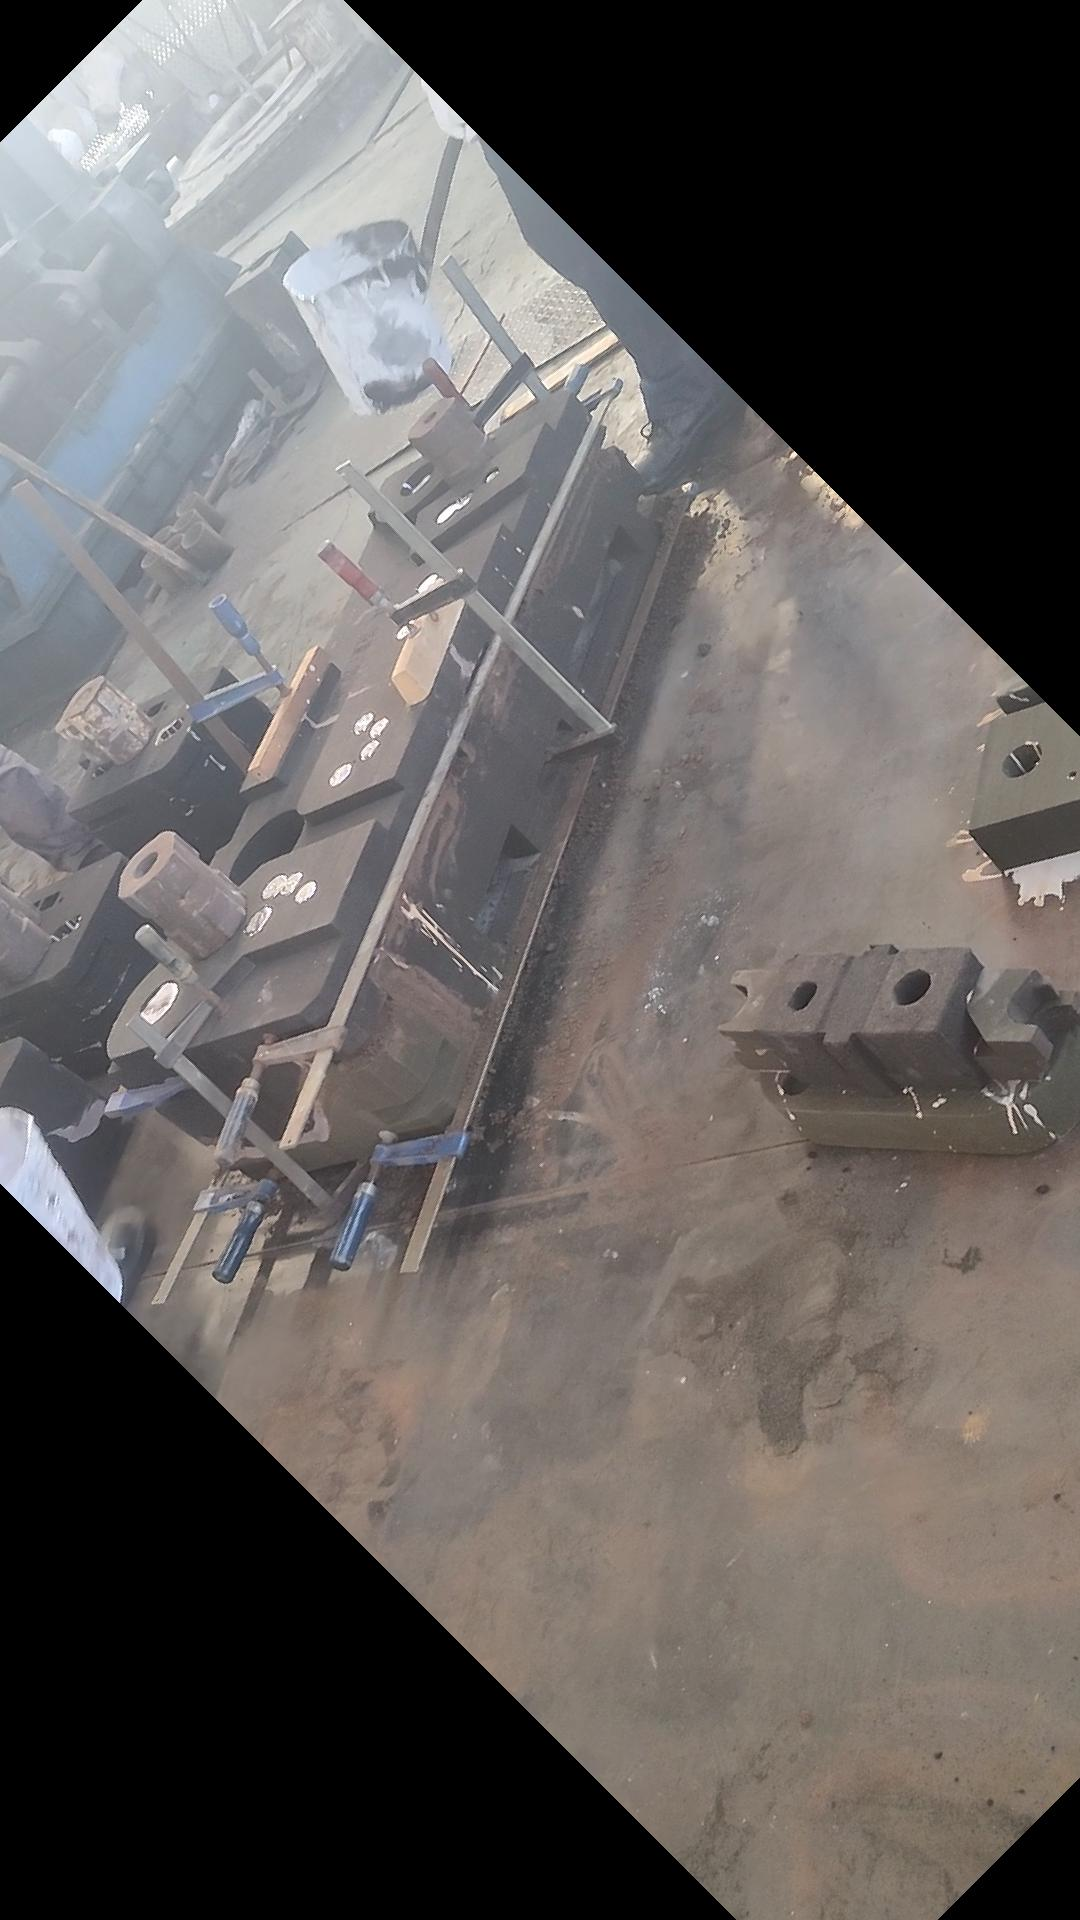pouring hole: (135, 978, 179, 1025), (1001, 742, 1043, 779), (400, 462, 436, 498), (80, 708, 117, 740), (179, 522, 204, 549), (171, 508, 196, 533), (174, 492, 198, 516), (160, 533, 182, 556), (140, 547, 164, 567), (146, 525, 170, 543)
